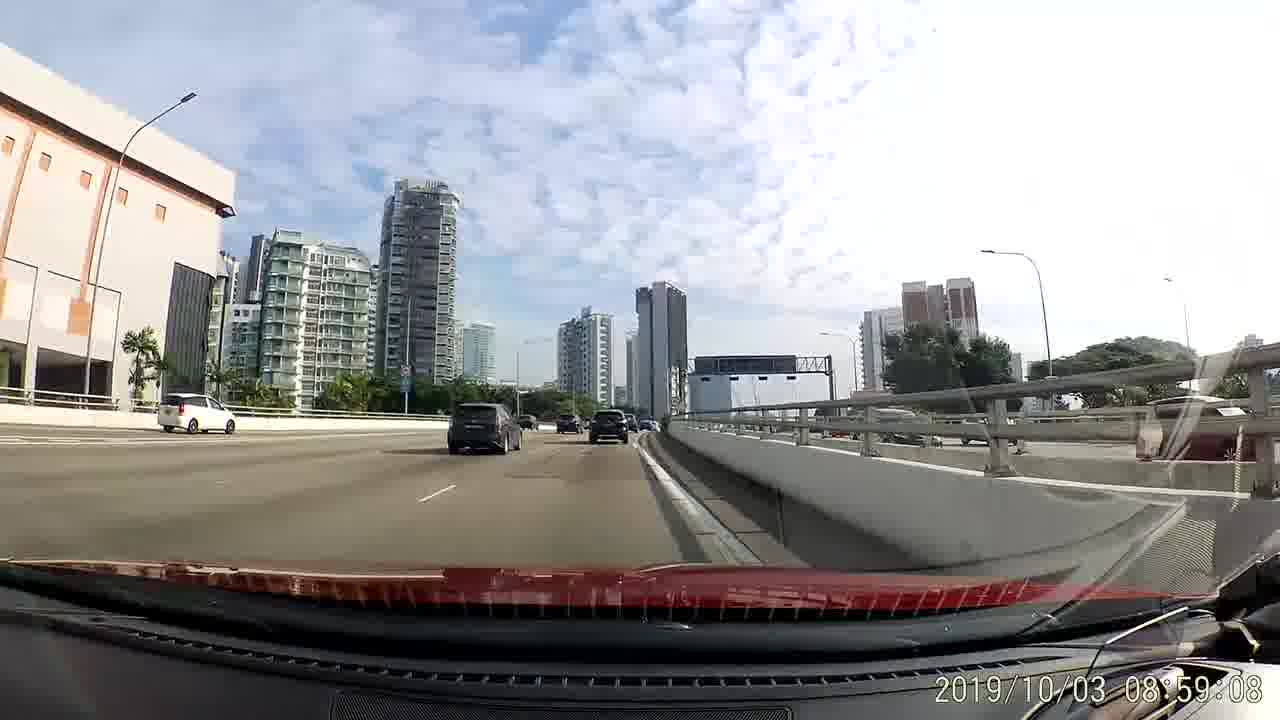car: (1134, 392, 1269, 468), (445, 400, 523, 453), (157, 387, 239, 434), (587, 406, 630, 447), (555, 413, 583, 433), (517, 413, 540, 429)
